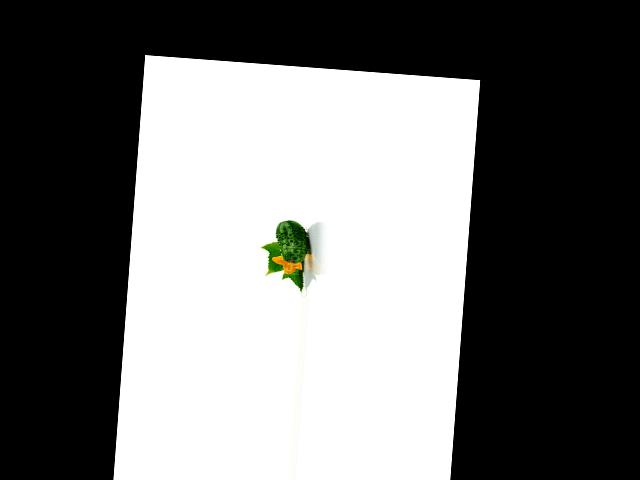cucumber: (274, 219, 310, 263)
